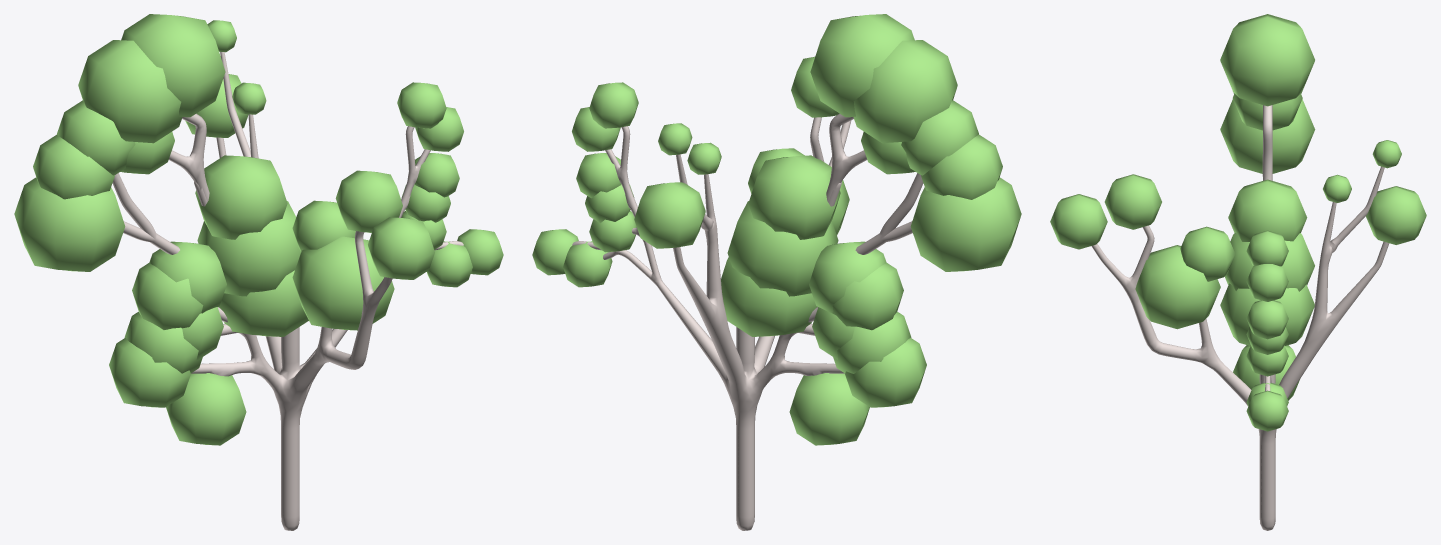
Rendered from plant_variant_3.fbx.
The picture shows the model from 3 angles, left to right: view 1: azimuth 30°, elevation 25°; view 2: azimuth 150°, elevation 25°; view 3: azimuth 270°, elevation 25°; orthographic projection. The views are drawn at different scales.
Parts seen in each view (by area): view 1: Vert.004, Vert; view 2: Vert.004, Vert; view 3: Vert.004, Vert.
Boxes of the visible parts, x1,y1,x2,y2 form: Vert.004: [14, 14, 503, 445]; Vert: [112, 52, 463, 530]; Vert.004: [532, 14, 1021, 445]; Vert: [572, 113, 923, 530]; Vert.004: [1050, 14, 1426, 431]; Vert: [1091, 105, 1389, 530].
Size of the model in its own units: 153 by 123 by 166.
